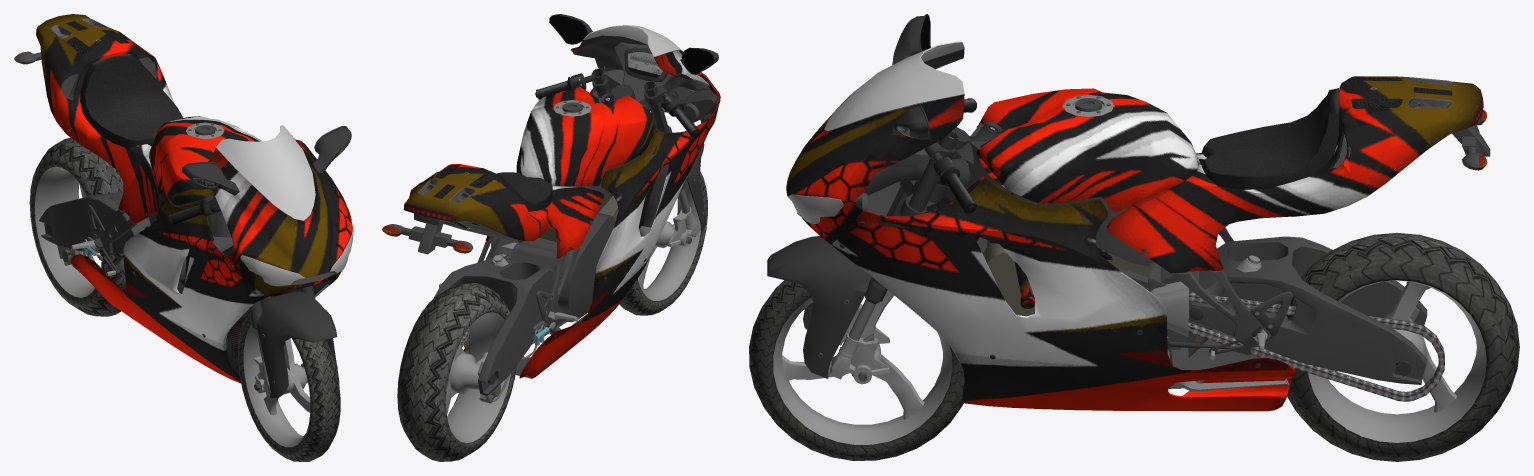
The model's file is Bike_1.FBX.
3 views of the same model, side by side, from view 1: azimuth 30°, elevation 25°; view 2: azimuth 150°, elevation 25°; view 3: azimuth 270°, elevation 25° (orthographic). The views are drawn at different scales.
Visible parts, largest first — view 1: body1, fRONTwHEEL, Wheel_R_LOD0, polySurface1; view 2: body1, Wheel_R_LOD0, fRONTwHEEL, polySurface1; view 3: body1, Wheel_R_LOD0, fRONTwHEEL, polySurface1.
Boxes of the visible parts, bbox=[...] form: body1: bbox=[14, 14, 353, 383]; fRONTwHEEL: bbox=[238, 296, 340, 461]; Wheel_R_LOD0: bbox=[29, 137, 126, 316]; polySurface1: bbox=[168, 195, 339, 398]; body1: bbox=[382, 14, 720, 403]; Wheel_R_LOD0: bbox=[397, 283, 516, 461]; fRONTwHEEL: bbox=[619, 171, 707, 315]; polySurface1: bbox=[535, 66, 706, 246]; body1: bbox=[786, 14, 1490, 411]; Wheel_R_LOD0: bbox=[1286, 232, 1519, 461]; fRONTwHEEL: bbox=[749, 276, 964, 460]; polySurface1: bbox=[767, 98, 976, 379].
Size of the model in its own units: 1.14 by 1.98 by 3.43.
Materials: 6 (5 with a texture image).
